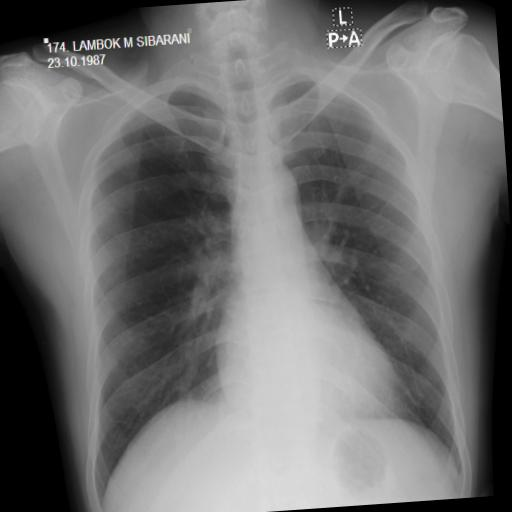normal: (53, 47, 475, 512)
